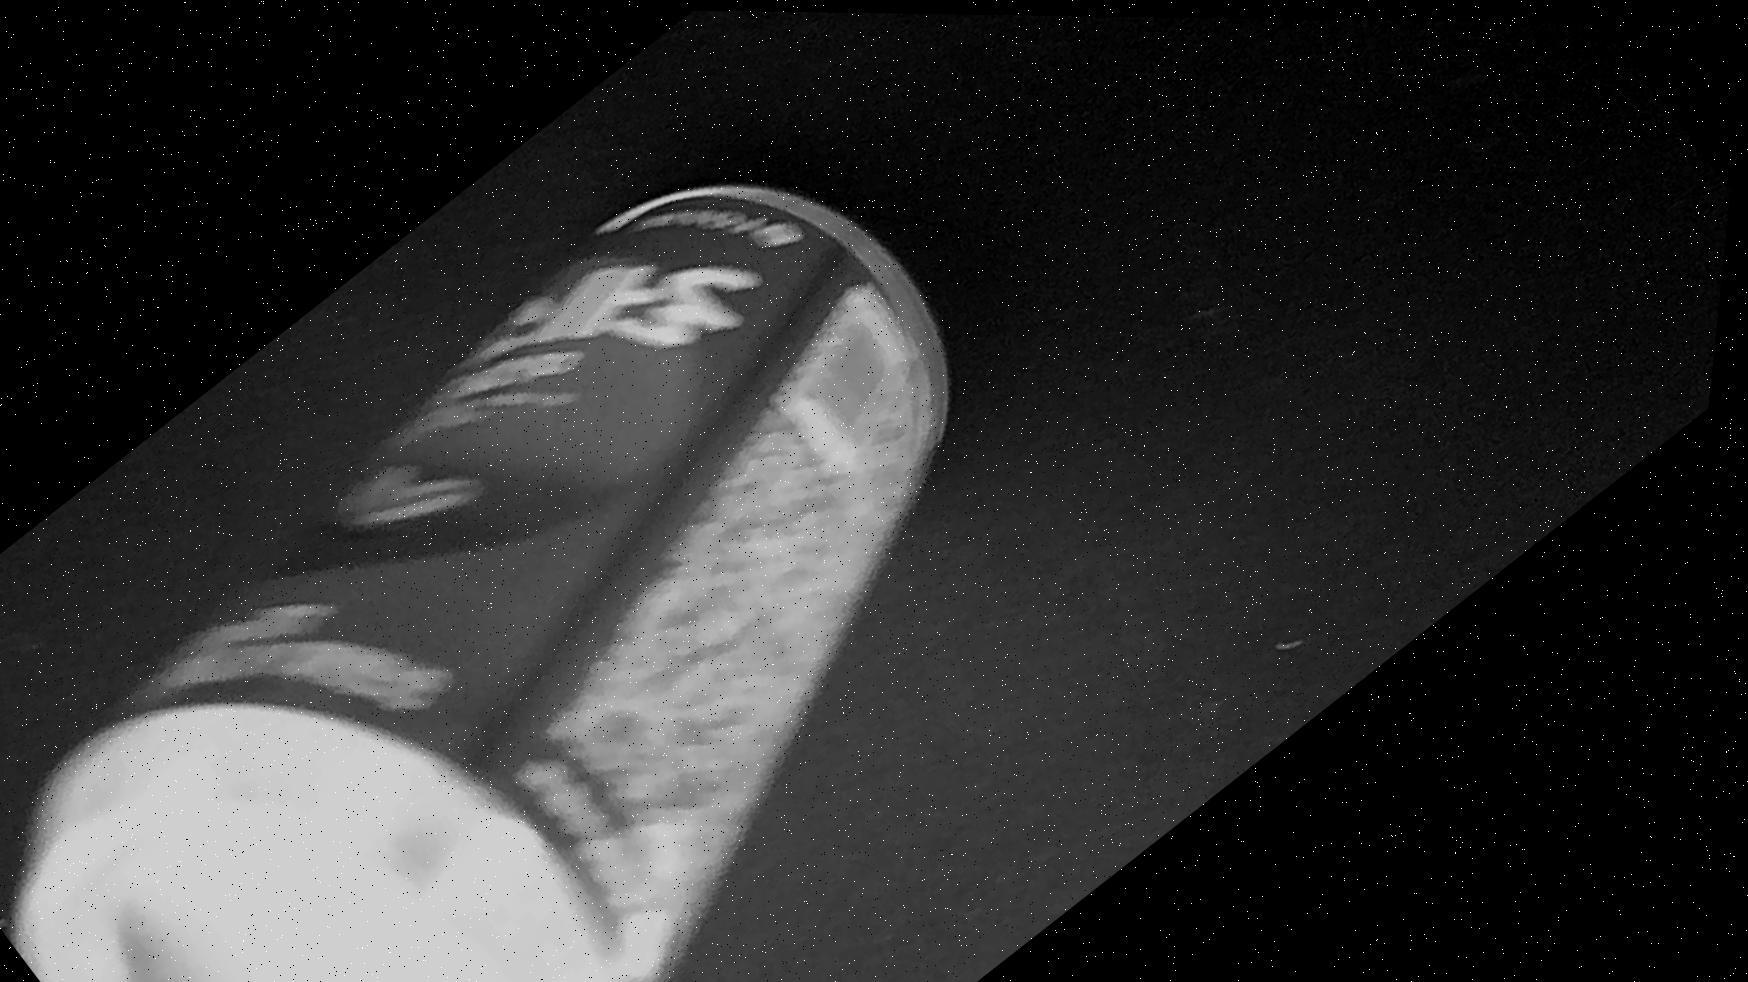letsbe: (0, 76, 1255, 982)
